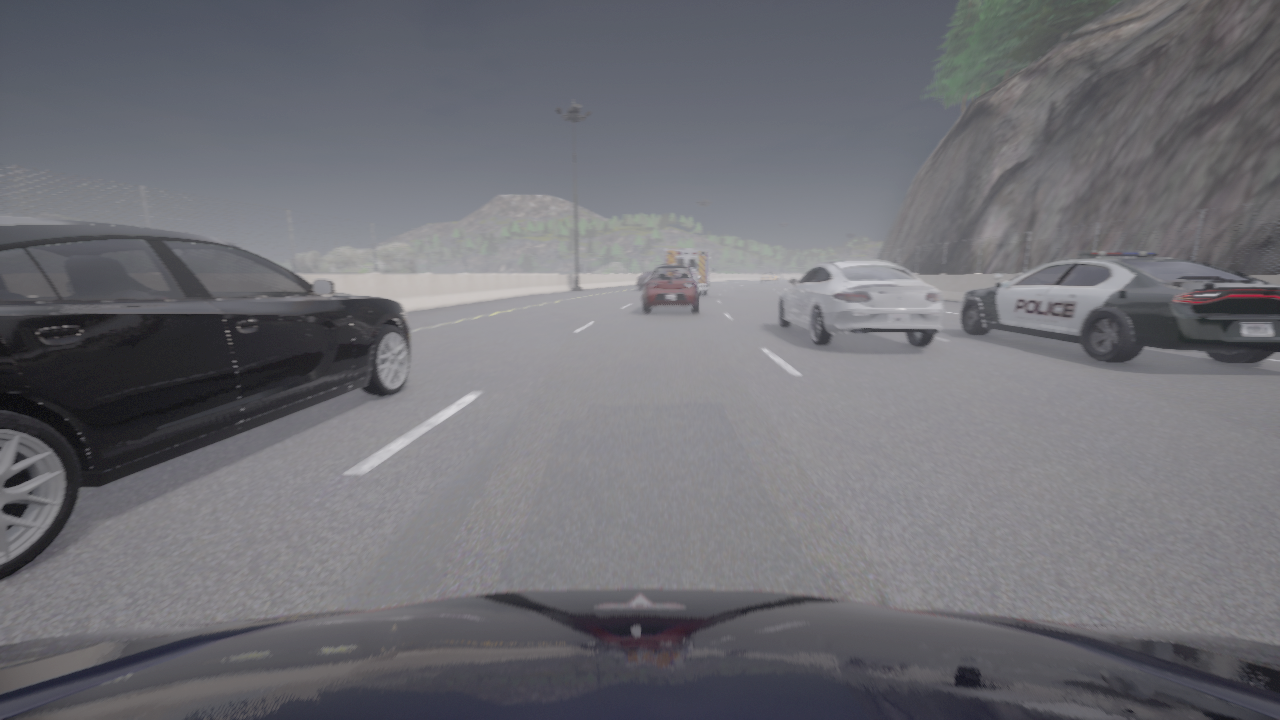cyclist: (0, 588, 1279, 719), (959, 252, 1279, 363), (778, 260, 943, 346), (642, 265, 700, 313), (665, 249, 714, 295), (637, 271, 652, 289), (760, 271, 779, 283)
